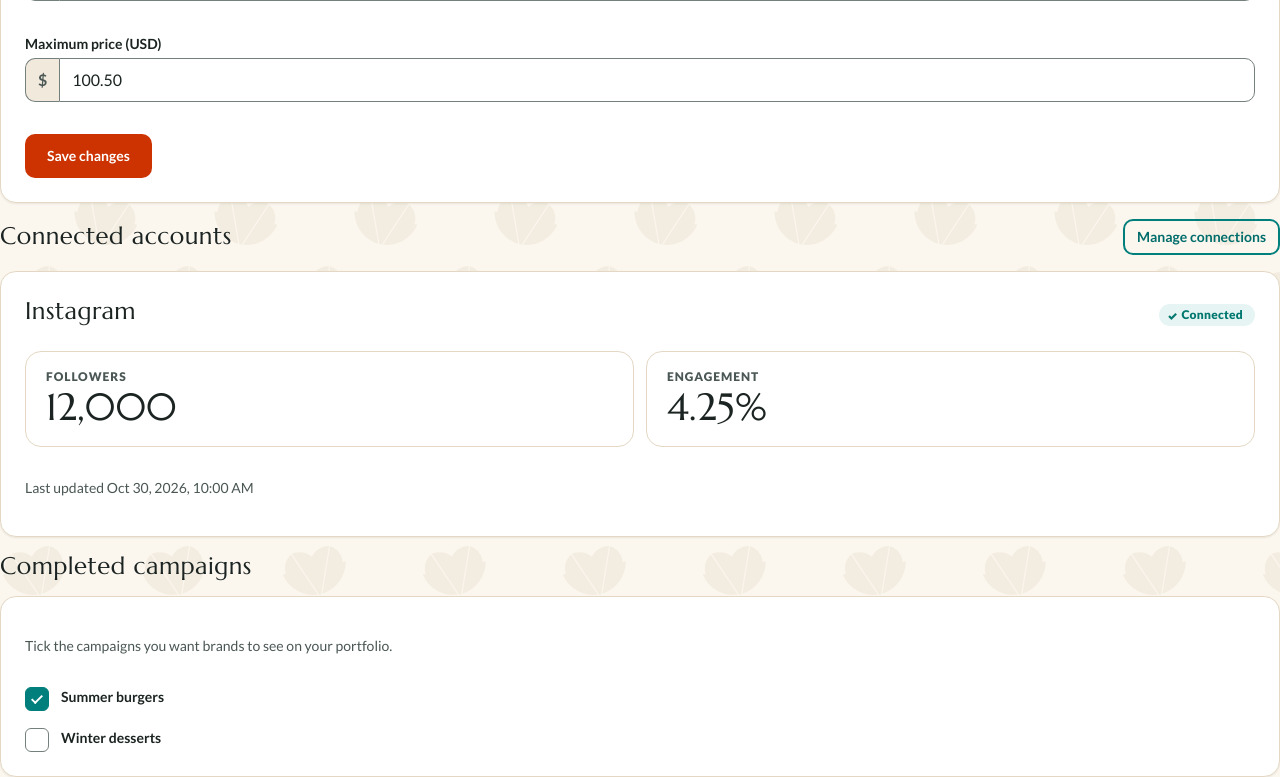
Test: featured campaigns › shows the message and leaves the box alone when featuring is refused
The image size is (1280, 777).
(page scrolled)
Click the checkbox labelled "Winter desserts". click: (93, 740)
box: [25, 728, 161, 752]
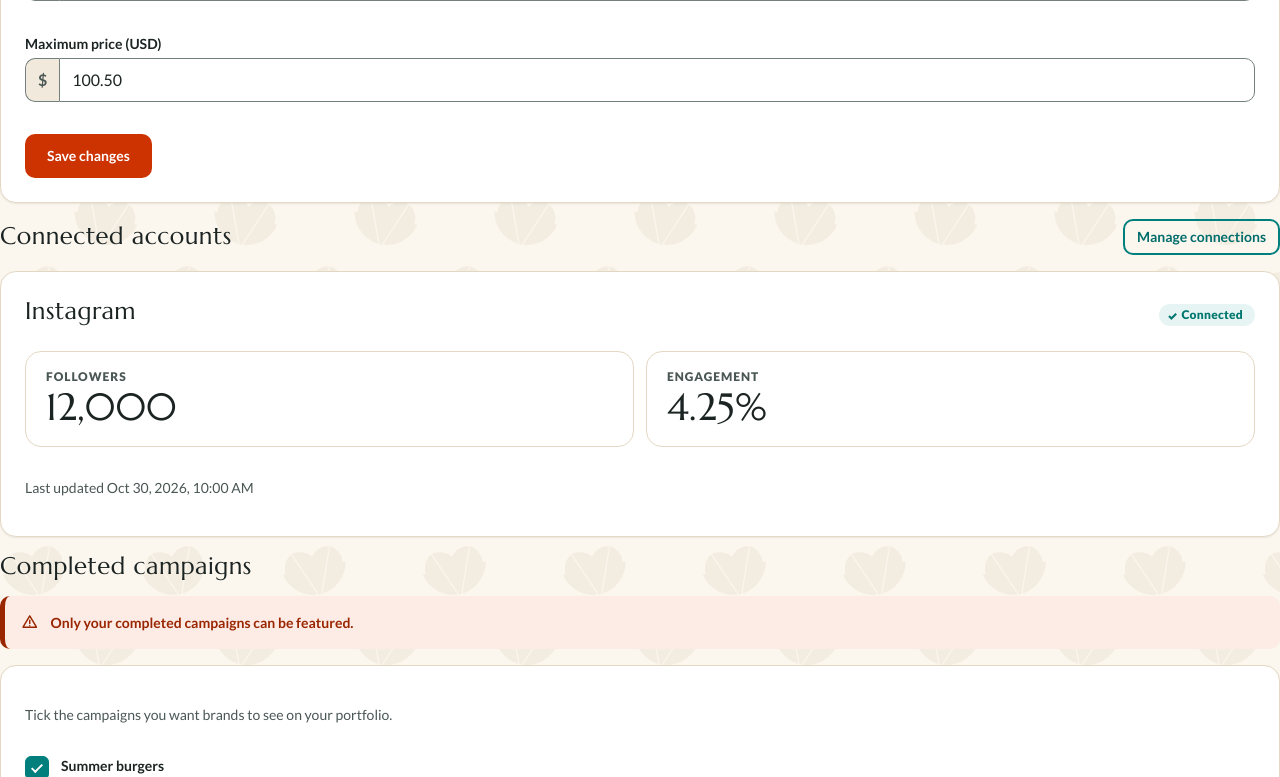
Expected: the message shows "Only your completed campaigns", [50, 614, 354, 631]
